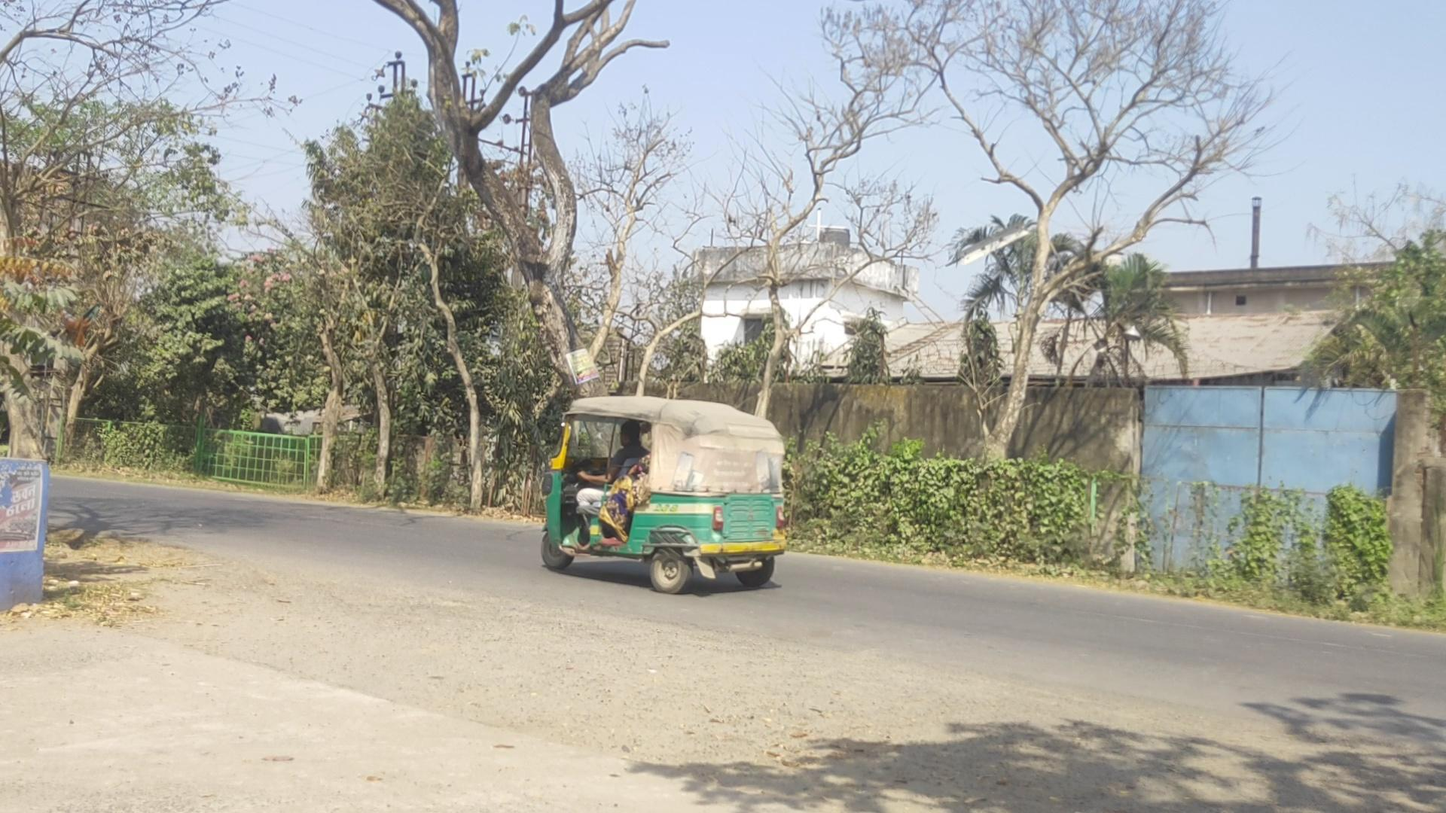Auto: (540, 396, 787, 595)
